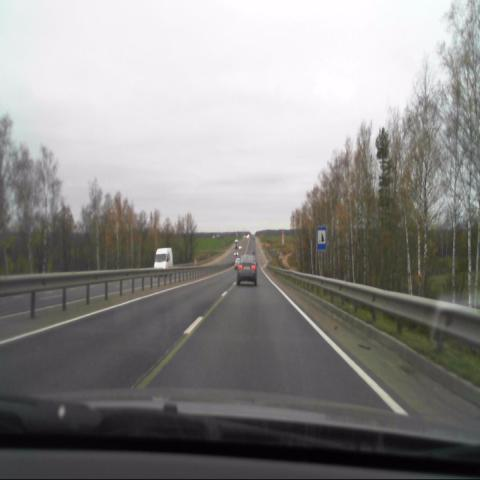7_11: (317, 226, 326, 250)
